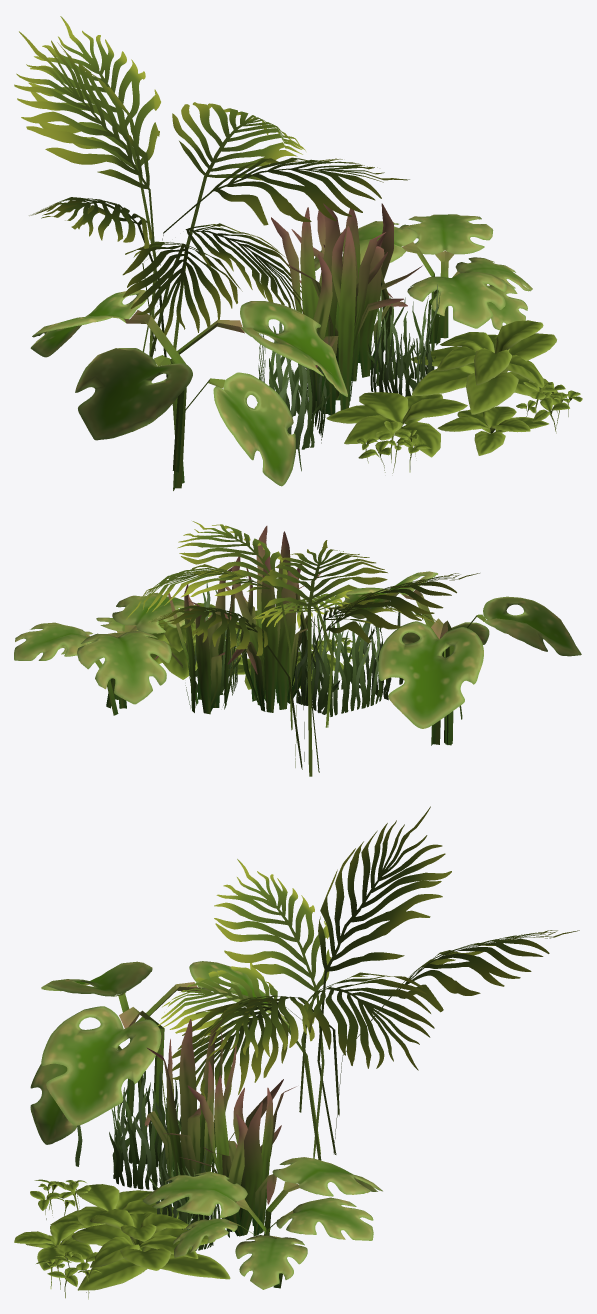
The model's file is Plants_low_asset.fbx.
3 renders of one model, top to bottom at view 1: azimuth 30°, elevation 25°; view 2: azimuth 150°, elevation 25°; view 3: azimuth 270°, elevation 25°, orthographic. The views are drawn at different scales.
Parts seen in each view (by area): view 1: polySurface272, polySurface267, polySurface226, polySurface246, polySurface289, polySurface294, polySurface295; view 2: polySurface267, polySurface272, polySurface226, polySurface246, polySurface289; view 3: polySurface272, polySurface267, polySurface226, polySurface246, polySurface289, polySurface295, polySurface294.
Part boxes in pixels (x1,y1,x2,y2): polySurface272: [14, 16, 409, 377]; polySurface267: [258, 203, 548, 471]; polySurface226: [30, 289, 347, 490]; polySurface246: [314, 214, 532, 351]; polySurface289: [411, 320, 560, 414]; polySurface294: [357, 421, 431, 473]; polySurface295: [516, 380, 582, 433]; polySurface267: [154, 526, 403, 716]; polySurface272: [126, 521, 479, 776]; polySurface226: [334, 571, 581, 745]; polySurface246: [14, 592, 194, 715]; polySurface289: [146, 603, 242, 679]; polySurface272: [157, 806, 579, 1160]; polySurface267: [14, 1018, 296, 1270]; polySurface226: [30, 961, 290, 1144]; polySurface246: [142, 1157, 382, 1289]; polySurface289: [72, 1209, 230, 1290]; polySurface295: [36, 1251, 101, 1299]; polySurface294: [30, 1179, 91, 1219].
Size of the model in its own units: 16.26 by 10.17 by 15.53.
